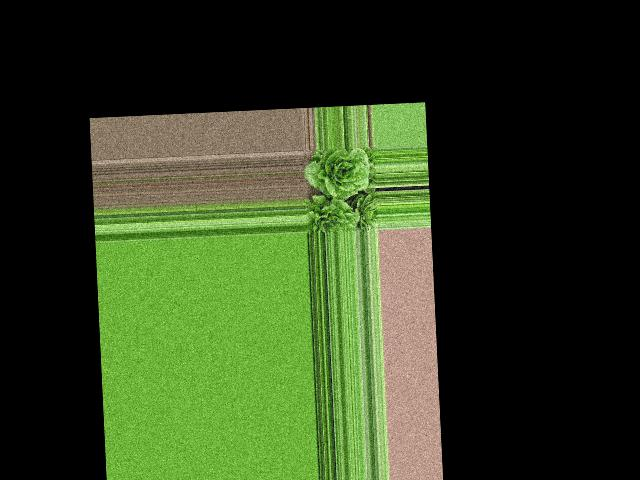lettuce: (306, 197, 360, 234)
